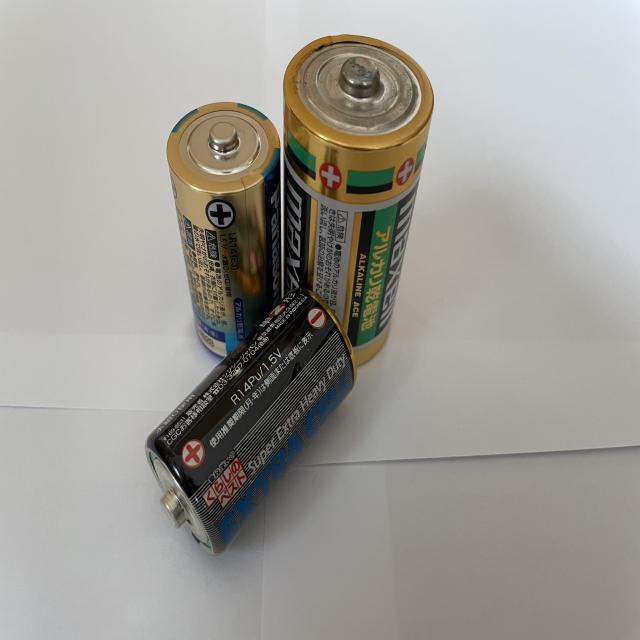hazardous waste: (144, 290, 357, 558), (281, 34, 435, 370), (166, 101, 282, 362)
